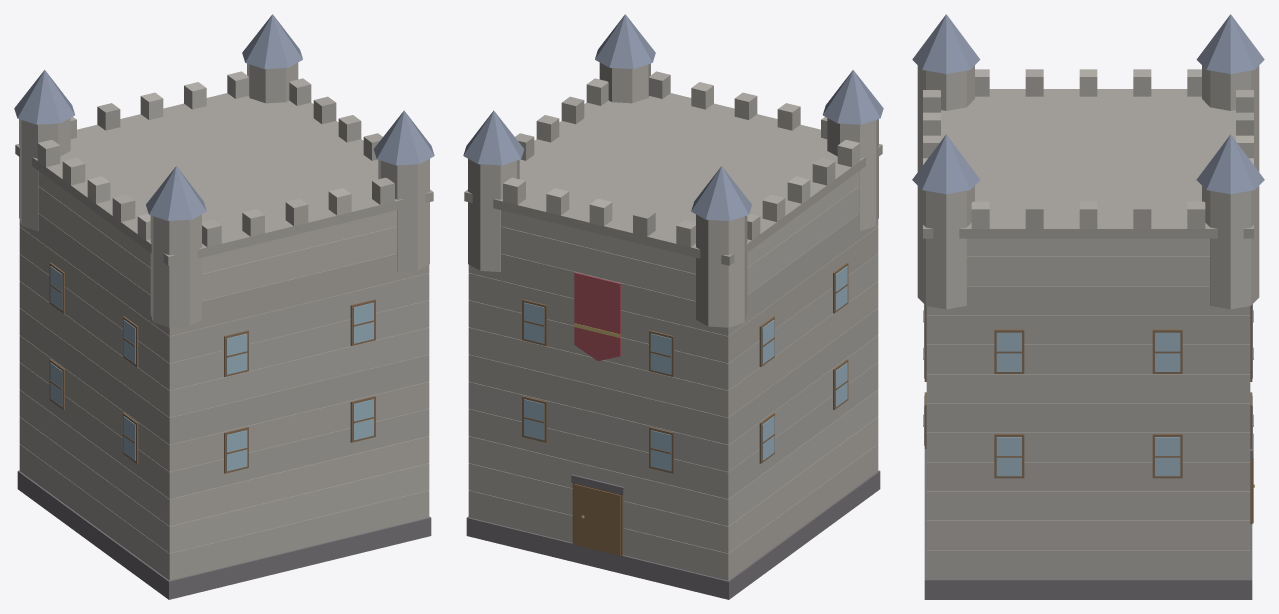
Rendered from castle_keep.glb.
The picture shows the model from 3 angles, left to right: view 1: azimuth 30°, elevation 25°; view 2: azimuth 150°, elevation 25°; view 3: azimuth 270°, elevation 25°; orthographic projection. The views are drawn at different scales.
Parts seen in each view (by area): view 1: castle_keep; view 2: castle_keep; view 3: castle_keep.
Part boxes in pixels (left/top/right/bottom): castle_keep: left=14, top=14, right=434, bottom=599; castle_keep: left=463, top=14, right=883, bottom=599; castle_keep: left=912, top=14, right=1264, bottom=599.
Bounding box in the file's own units: 9.8 × 14 × 9.8.
